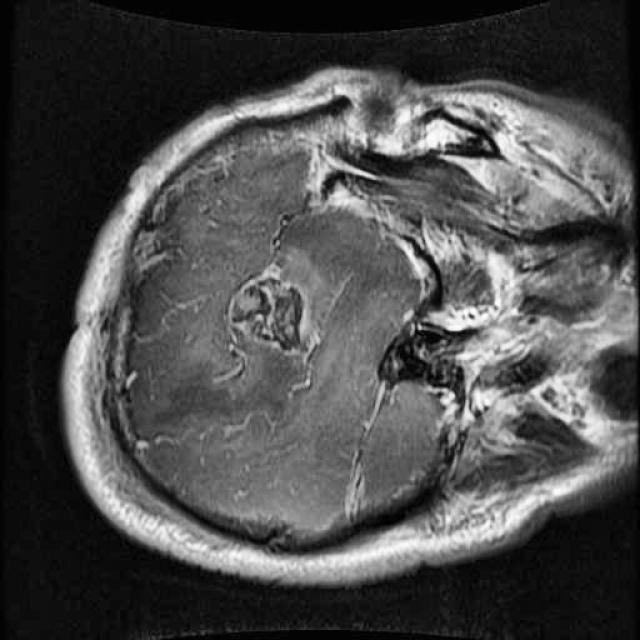Non-Tumor: (203, 245, 335, 390)
